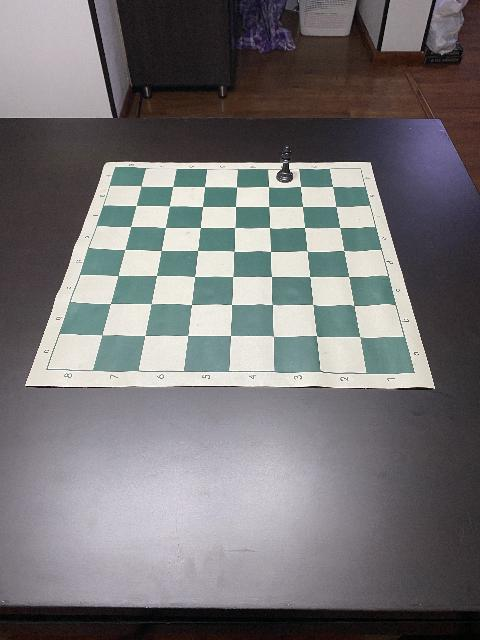black-bishop: (276, 144, 294, 182)
board: (25, 158, 435, 390)
